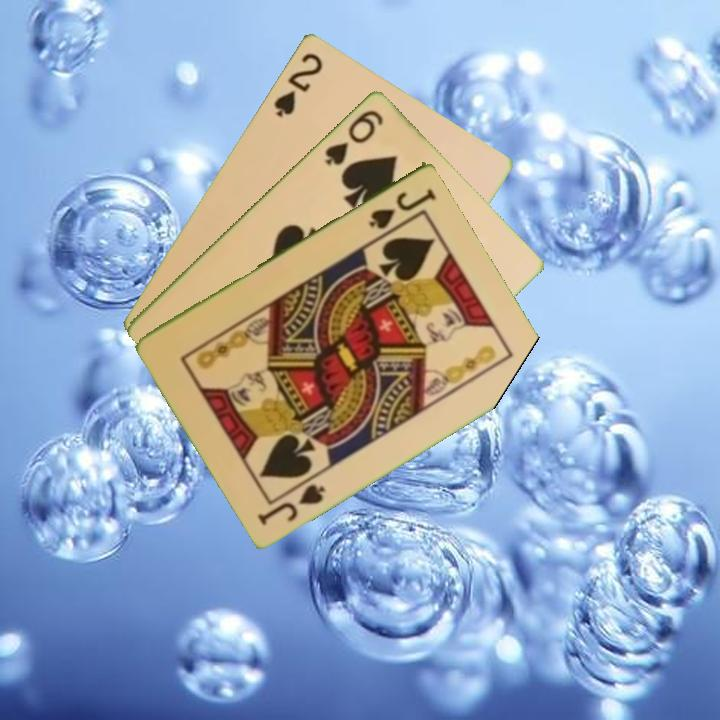2s: (270, 48, 326, 120)
6s: (321, 105, 386, 168)
Js: (254, 479, 329, 528), (365, 184, 438, 232)
